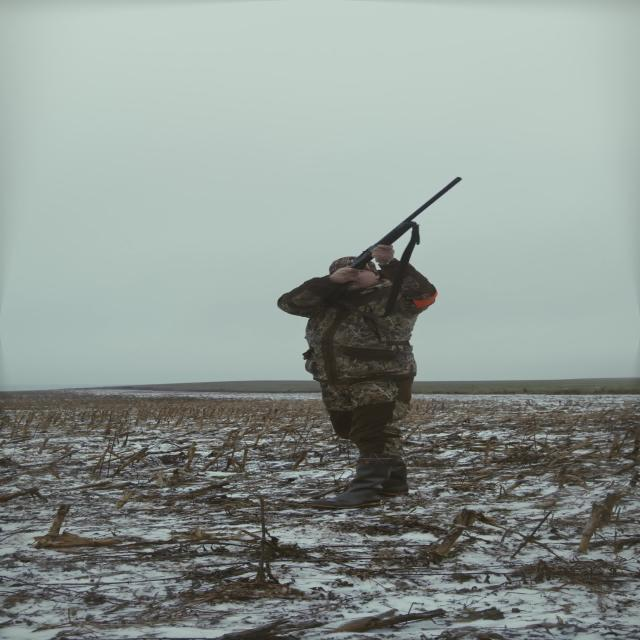poacher: (270, 250, 438, 510)
weapon: (342, 180, 462, 274)
